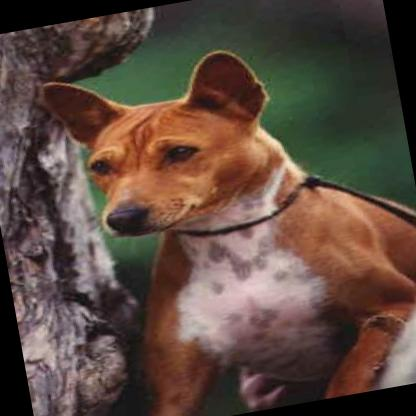basenji: (18, 17, 416, 416)
